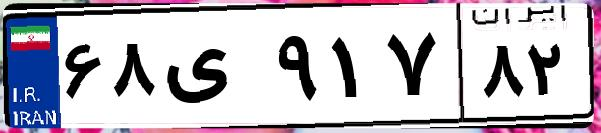1: (330, 28, 385, 110)
2: (525, 38, 570, 115)
6: (57, 26, 110, 100)
7: (385, 28, 445, 110)
8: (475, 38, 525, 113), (110, 28, 158, 98)
9: (270, 28, 330, 110)
ی: (158, 20, 270, 120)
